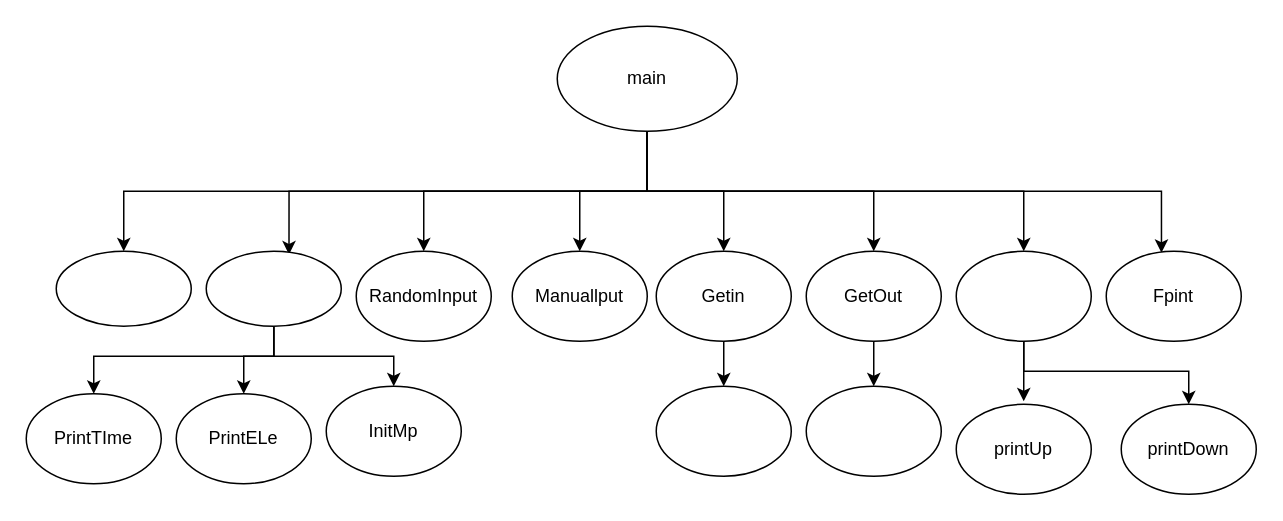
The diagram is 1283 pixels wide and 521 high, and some of its shapes have lost their labels. The centre of each missing label's shape, as x and y in pixels:
EleUpDown: pixel 1023 295
Init: pixel 123 288
PrintAll: pixel 273 288
printIn: pixel 723 430
printOut: pixel 873 430
